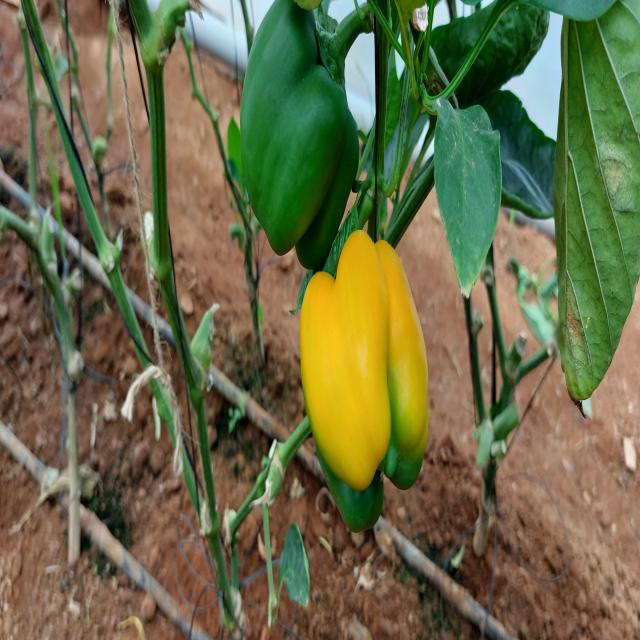Green--Not-ready-to-harvest: (254, 9, 372, 243)
GreenishYellow--Can-be-Harvested: (280, 229, 448, 510)
